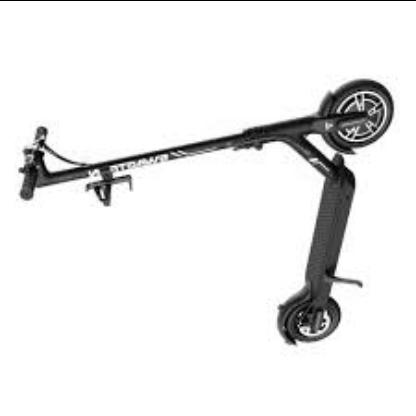bike: (12, 78, 397, 348)
